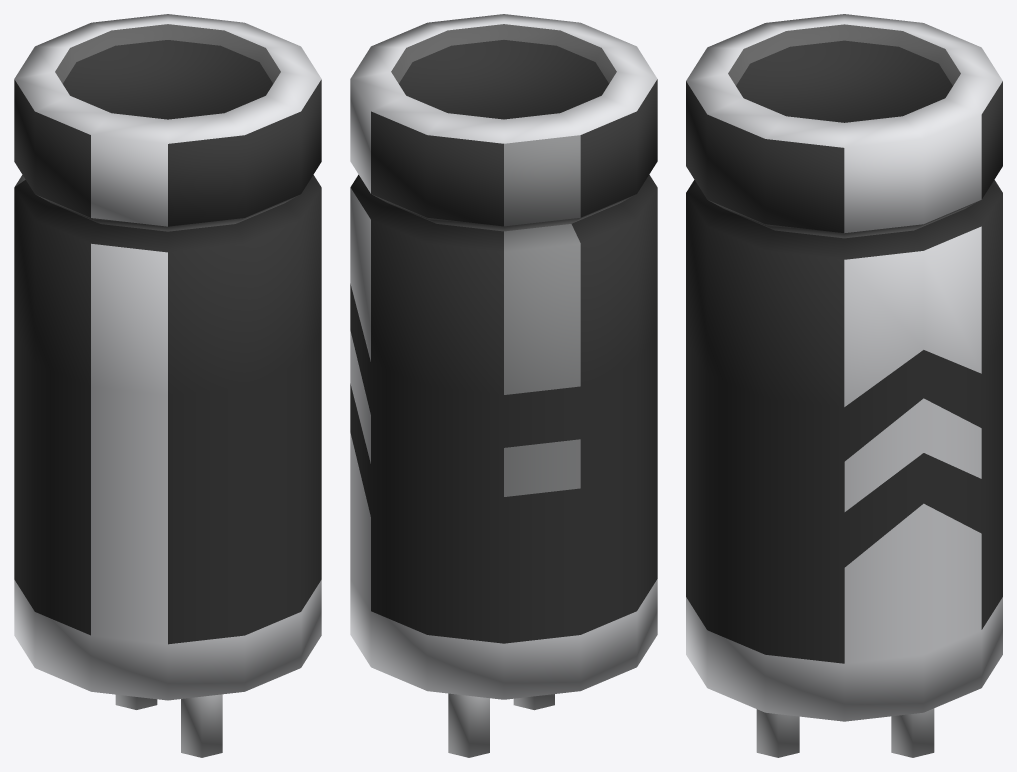
File: capacitorBlack.fbx
3 views of the same model, side by side, from view 1: azimuth 30°, elevation 25°; view 2: azimuth 150°, elevation 25°; view 3: azimuth 270°, elevation 25° (orthographic). The views are drawn at different scales.
Visible parts, largest first — view 1: capacitorBlack; view 2: capacitorBlack; view 3: capacitorBlack.
Part boxes in pixels (<box>): capacitorBlack: <box>14,14,321,757</box>; capacitorBlack: <box>350,14,657,757</box>; capacitorBlack: <box>686,14,1002,757</box>.
Size of the model in its own units: 80.5 by 189 by 80.5.
